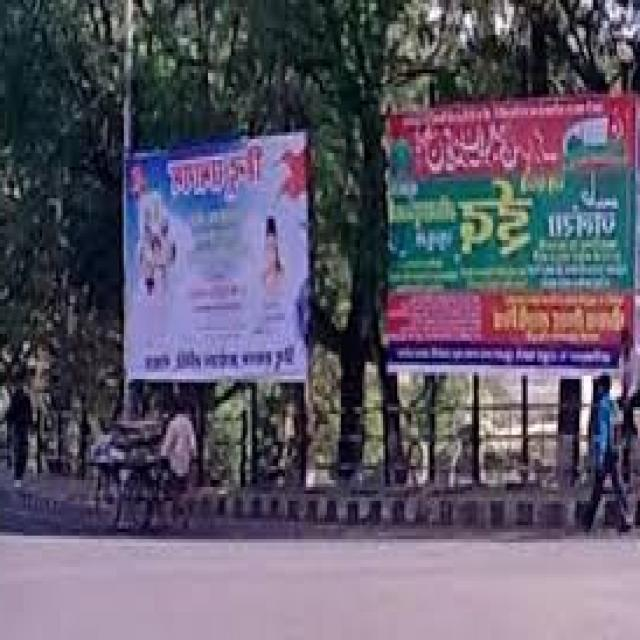Werbetafel frei: (390, 95, 637, 372), (126, 128, 308, 381)
